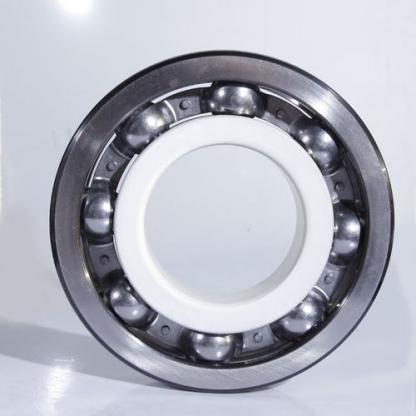FOD: (44, 45, 400, 394)
